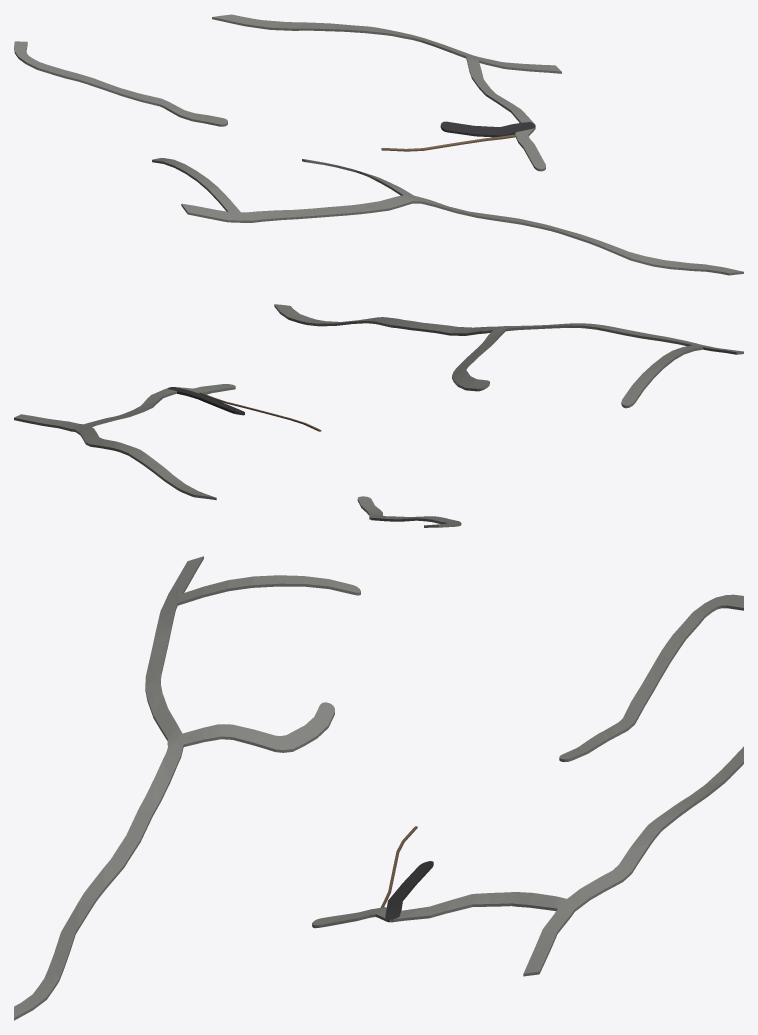
The picture shows the model from 3 angles, top to bottom: view 1: azimuth 30°, elevation 25°; view 2: azimuth 150°, elevation 25°; view 3: azimuth 270°, elevation 25°; orthographic projection. The views are drawn at different scales.
Bounding box in the file's own units: 293 × 74.54 × 292.
